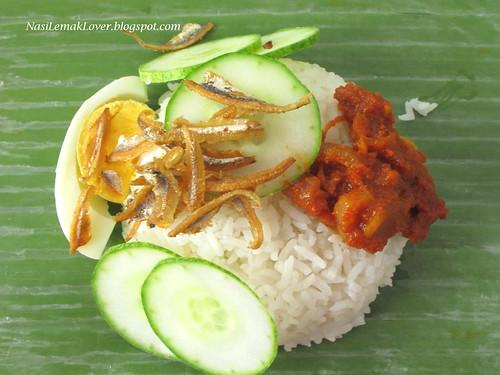Anchovies: (105, 73, 311, 250), (71, 109, 120, 255)
Boiled-Egg: (55, 76, 155, 260)
Cucumber: (139, 28, 324, 199), (92, 242, 279, 375), (158, 82, 229, 124)
Rice: (133, 194, 408, 351), (278, 59, 346, 130)
Sambal: (282, 82, 449, 246)
